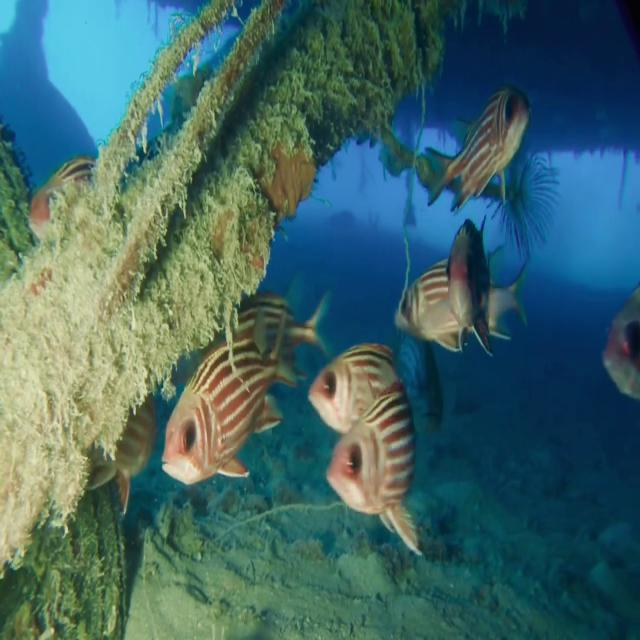Asker Baligi: (160, 287, 329, 488), (307, 340, 423, 558)
